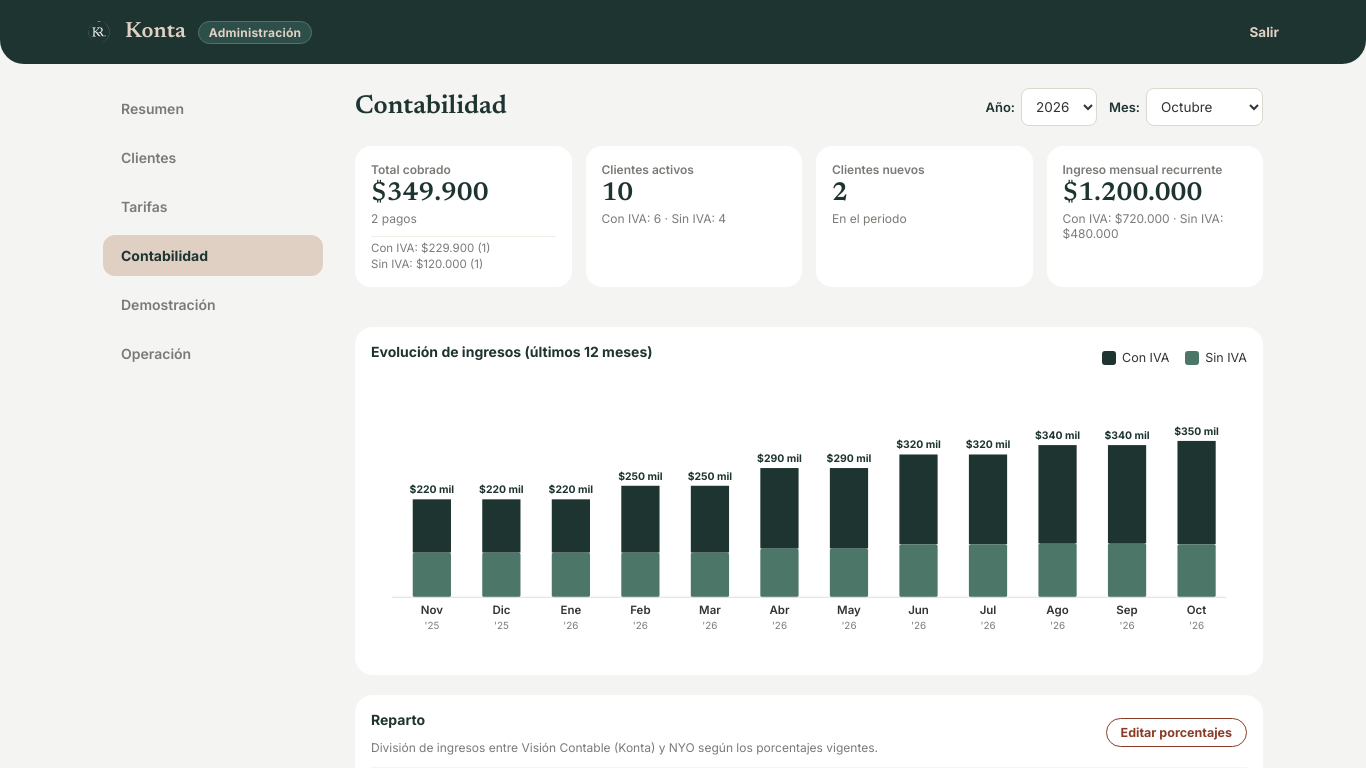
Scenario: Story 10.6: pantalla Contabilidad › error del servidor en el reparto se muestra junto al campo sin cerrar el formulario (AC #9)
Click the button "Editar porcentajes" at (1176, 733), box [1106, 718, 1247, 747]
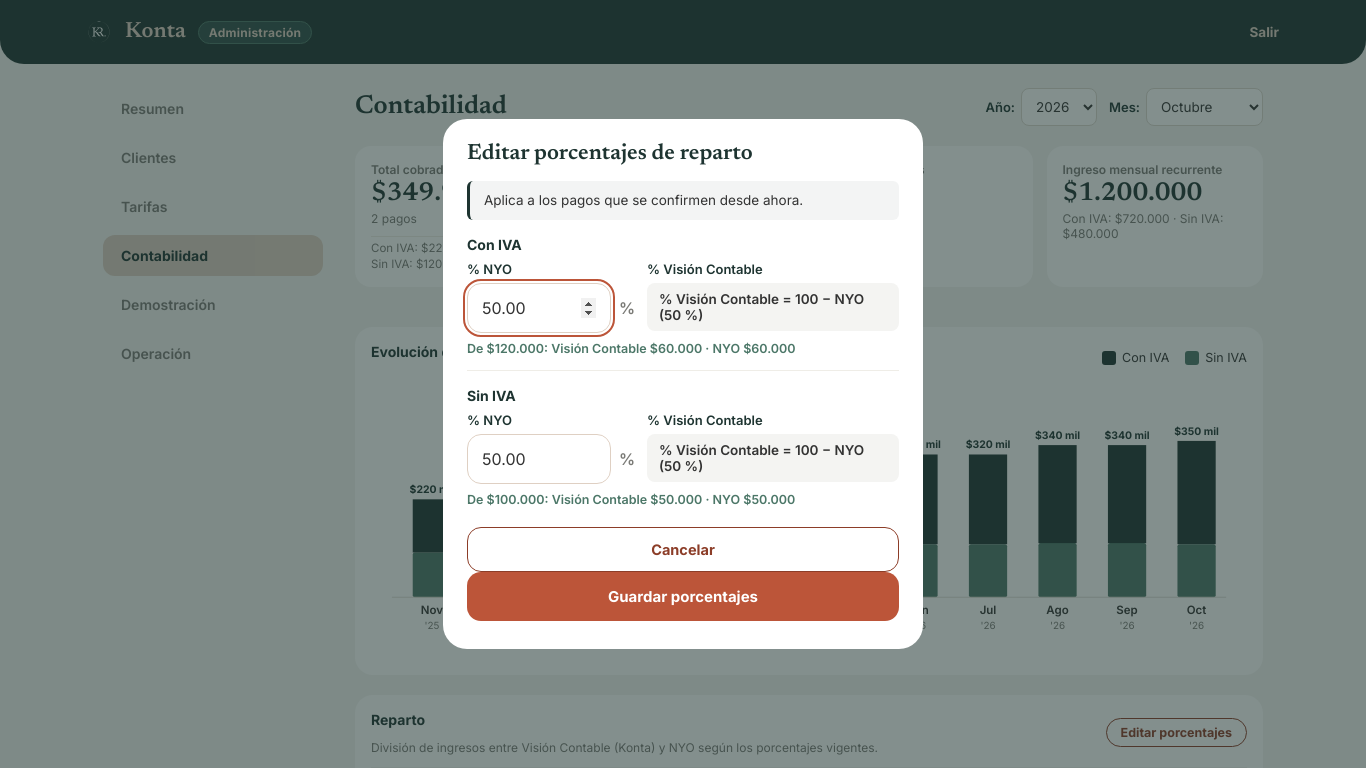
Click the button "Guardar porcentajes" at (683, 597), box [467, 572, 899, 621]
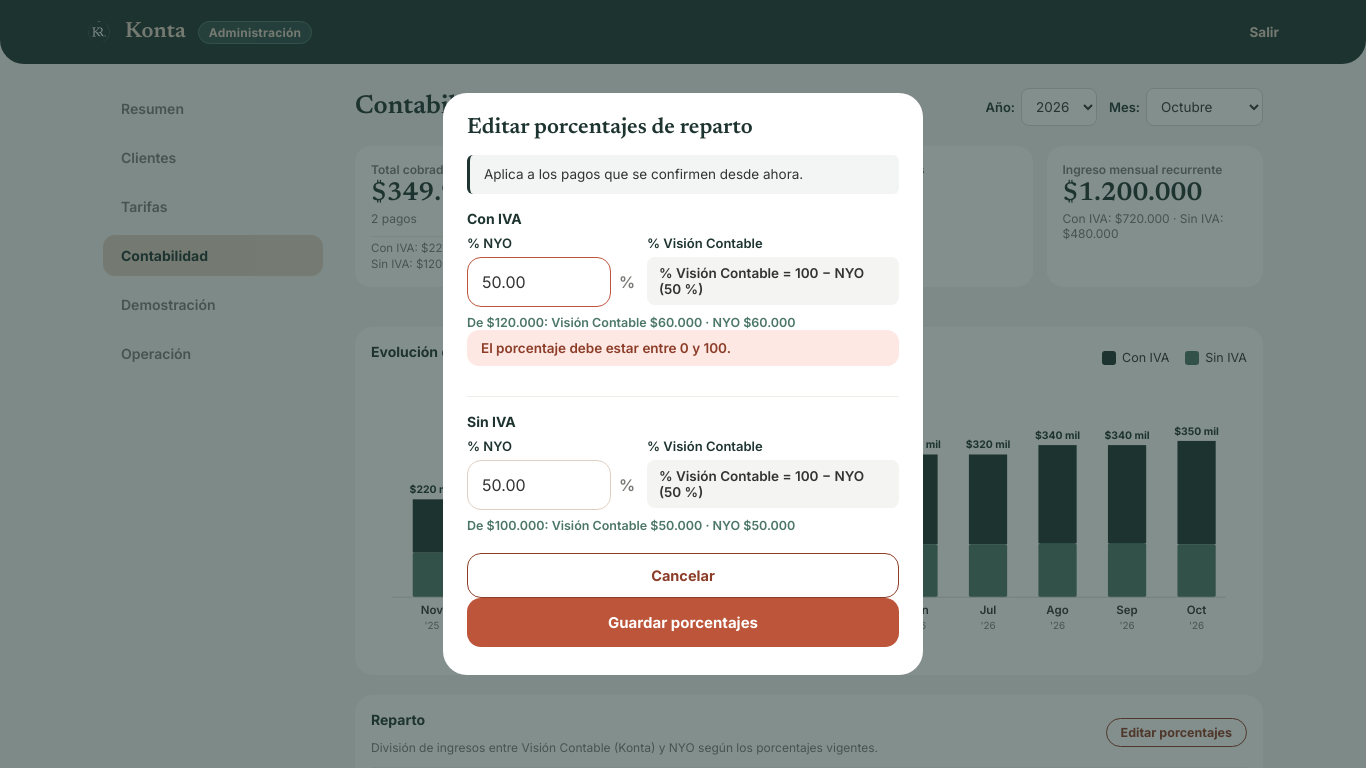
Now the dialog "Editar porcentajes de reparto" is shown, box [443, 93, 923, 675]
Now the text "El porcentaje debe estar entre 0 y 100." is shown, box [467, 330, 899, 366]
